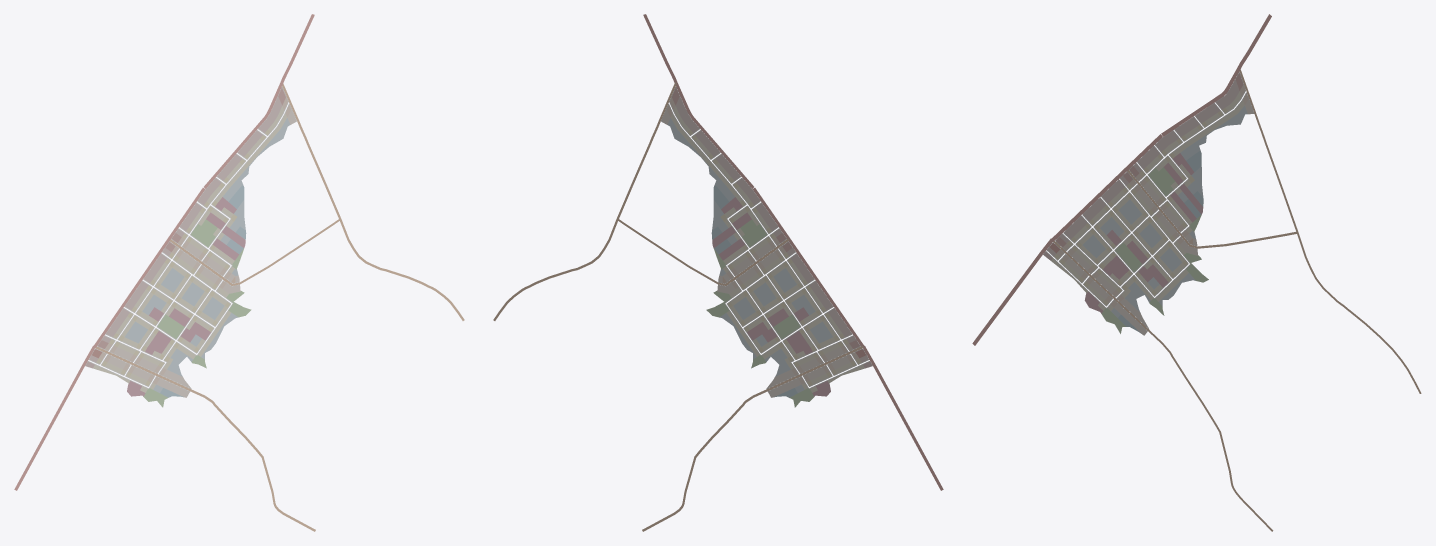
The model's file is public.gltf.
3 renders of one model, left to right at view 1: azimuth 30°, elevation 25°; view 2: azimuth 150°, elevation 25°; view 3: azimuth 330°, elevation 25°, orthographic.
Visible parts, largest first — view 1: obj_tri; view 2: obj_tri; view 3: obj_tri.
Part boxes in pixels (x1,y1,x2,y2): obj_tri: (14, 14, 464, 531); obj_tri: (493, 14, 943, 531); obj_tri: (972, 14, 1421, 531).
Size of the model in its own units: 2146 by 2361 by 0.2.
